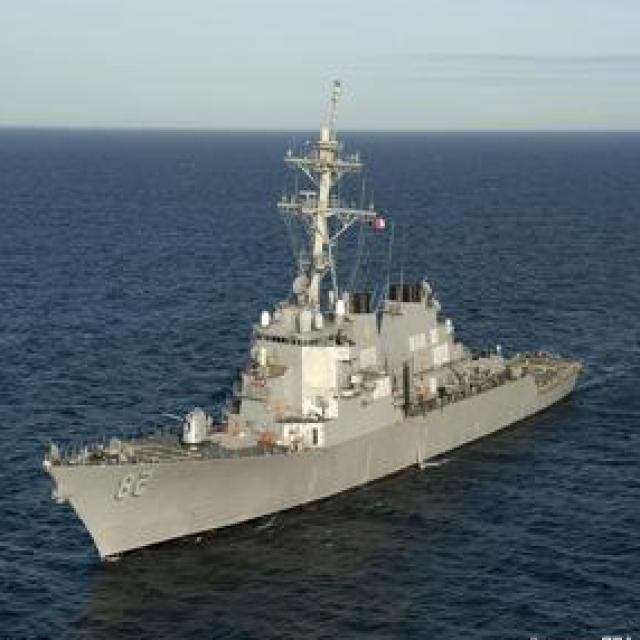navalvessels: (44, 82, 589, 568)
